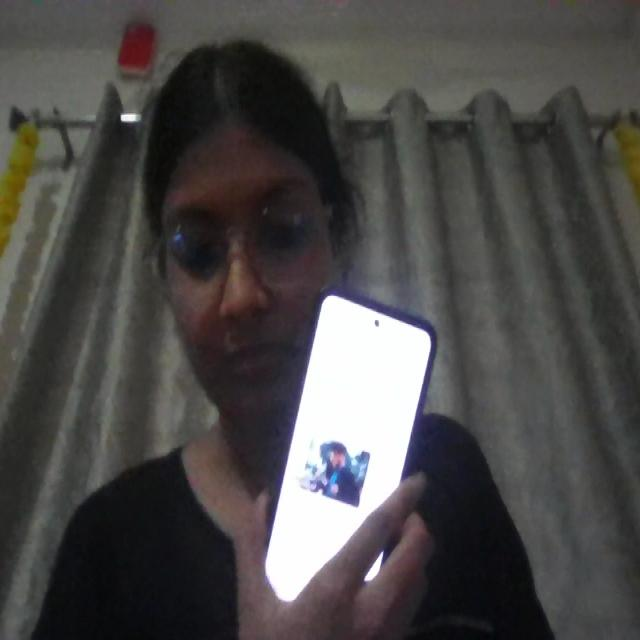phone: (266, 291, 433, 600)
